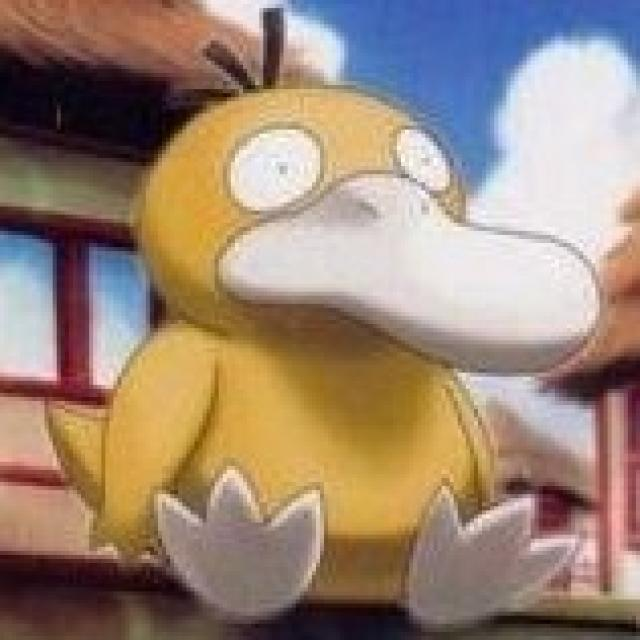Psyduck: (107, 91, 598, 627)
